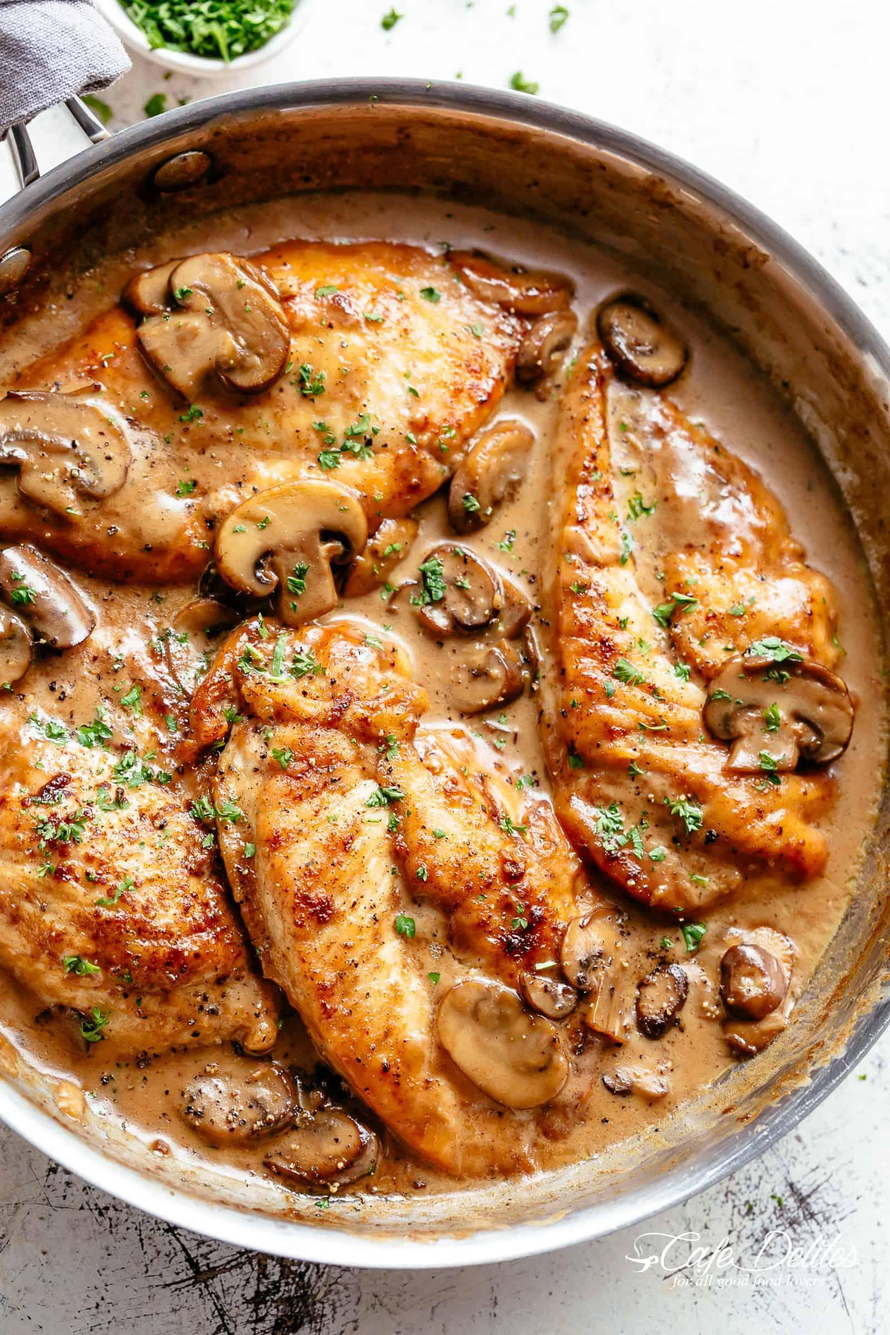chicken: (6, 96, 859, 1179)
